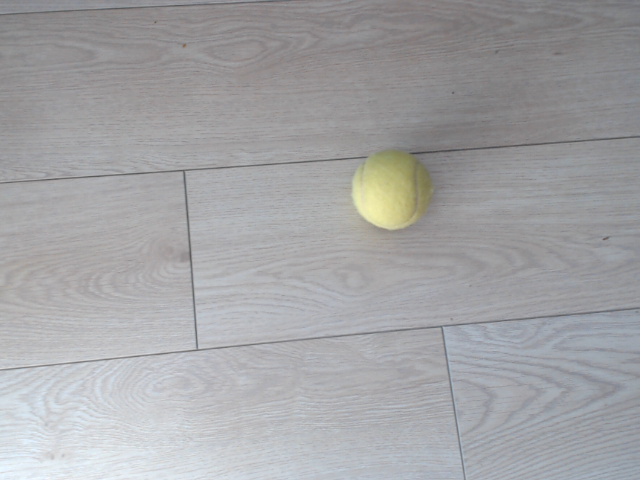ball: (349, 147, 435, 233)
